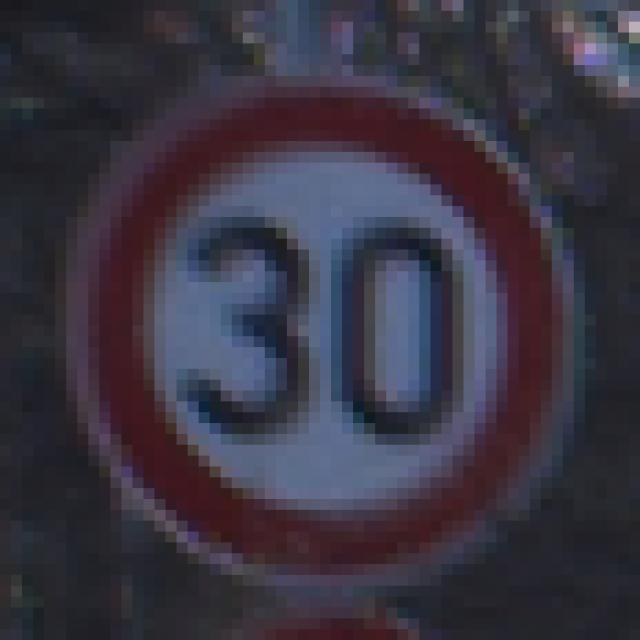Speed Limit -30-: (49, 48, 580, 580)
